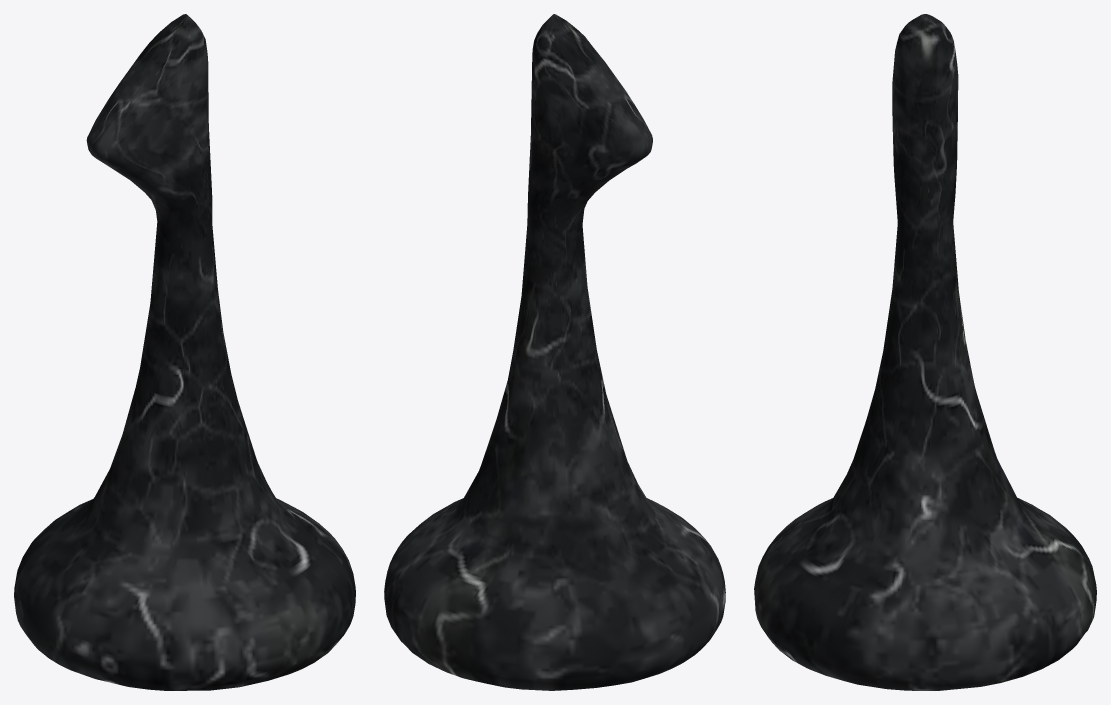
The model's file is Serpentina_knight_black.glb.
The picture shows the model from 3 angles, left to right: view 1: azimuth 30°, elevation 25°; view 2: azimuth 150°, elevation 25°; view 3: azimuth 270°, elevation 25°; orthographic projection.
Parts seen in each view (by area): view 1: Serpentina_knight_black; view 2: Serpentina_knight_black; view 3: Serpentina_knight_black.
Part boxes in pixels (left/top/right/bottom): Serpentina_knight_black: left=14, top=14, right=355, bottom=690; Serpentina_knight_black: left=384, top=14, right=725, bottom=690; Serpentina_knight_black: left=754, top=14, right=1096, bottom=690.
Bounding box in the file's own units: 0.0406 × 0.08 × 0.0406.
1 material, 1 textured.
